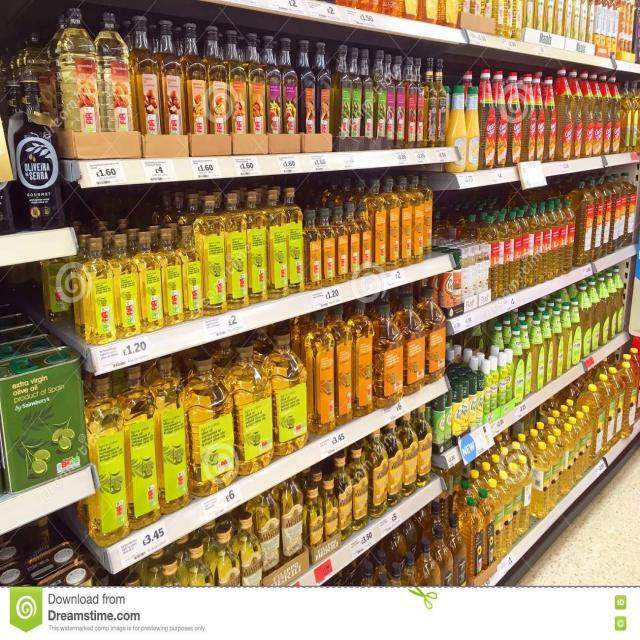Oil: (179, 352, 309, 486), (88, 395, 191, 544), (56, 7, 139, 158), (76, 246, 203, 344), (193, 206, 306, 308), (294, 317, 378, 437), (136, 55, 233, 154), (372, 303, 448, 400), (301, 192, 377, 287), (365, 188, 435, 268), (226, 78, 268, 137)
